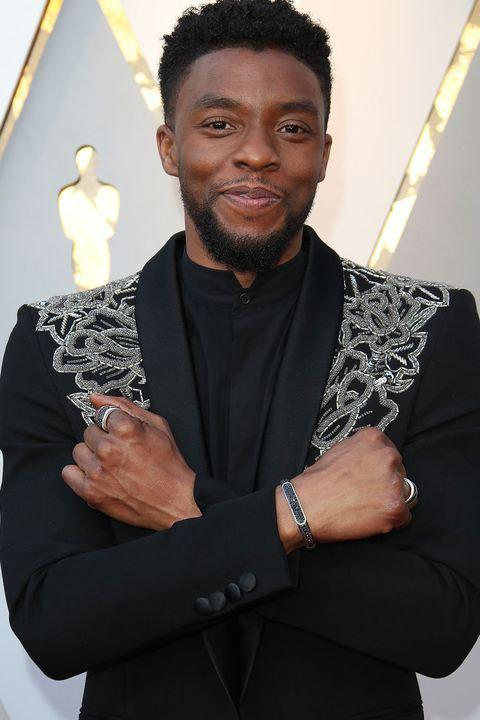Sober: (171, 65, 329, 234)
